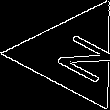N_NW: (36, 25, 109, 84)
